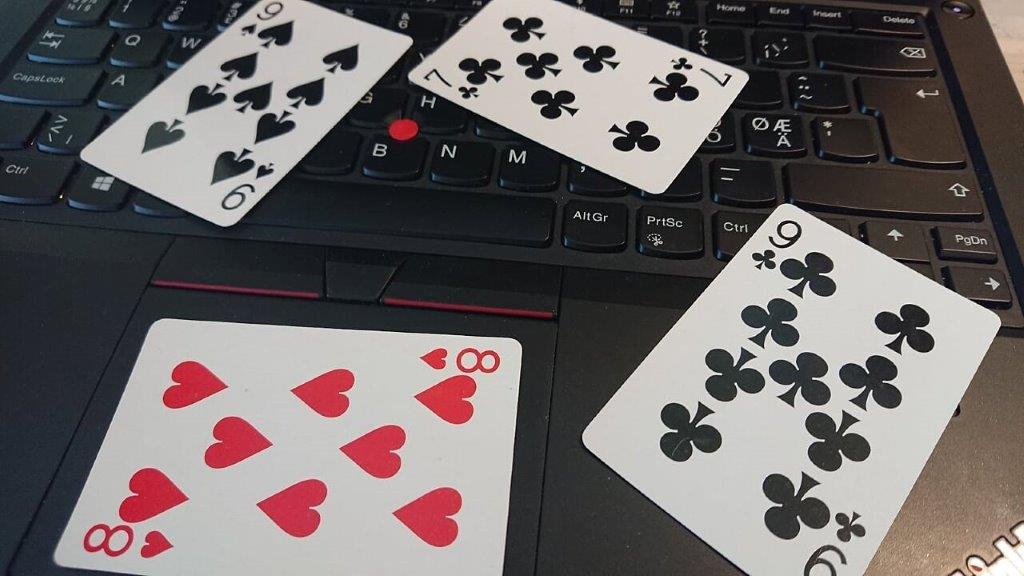7C: (419, 66, 483, 102)
9C: (748, 216, 805, 274)
9S: (236, 1, 287, 40)
